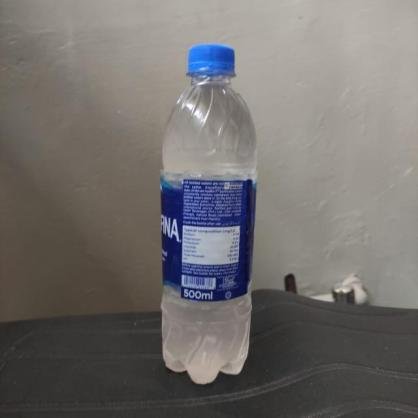bottle: (156, 41, 258, 368)
cap: (186, 43, 238, 84)
label: (162, 179, 254, 298)
